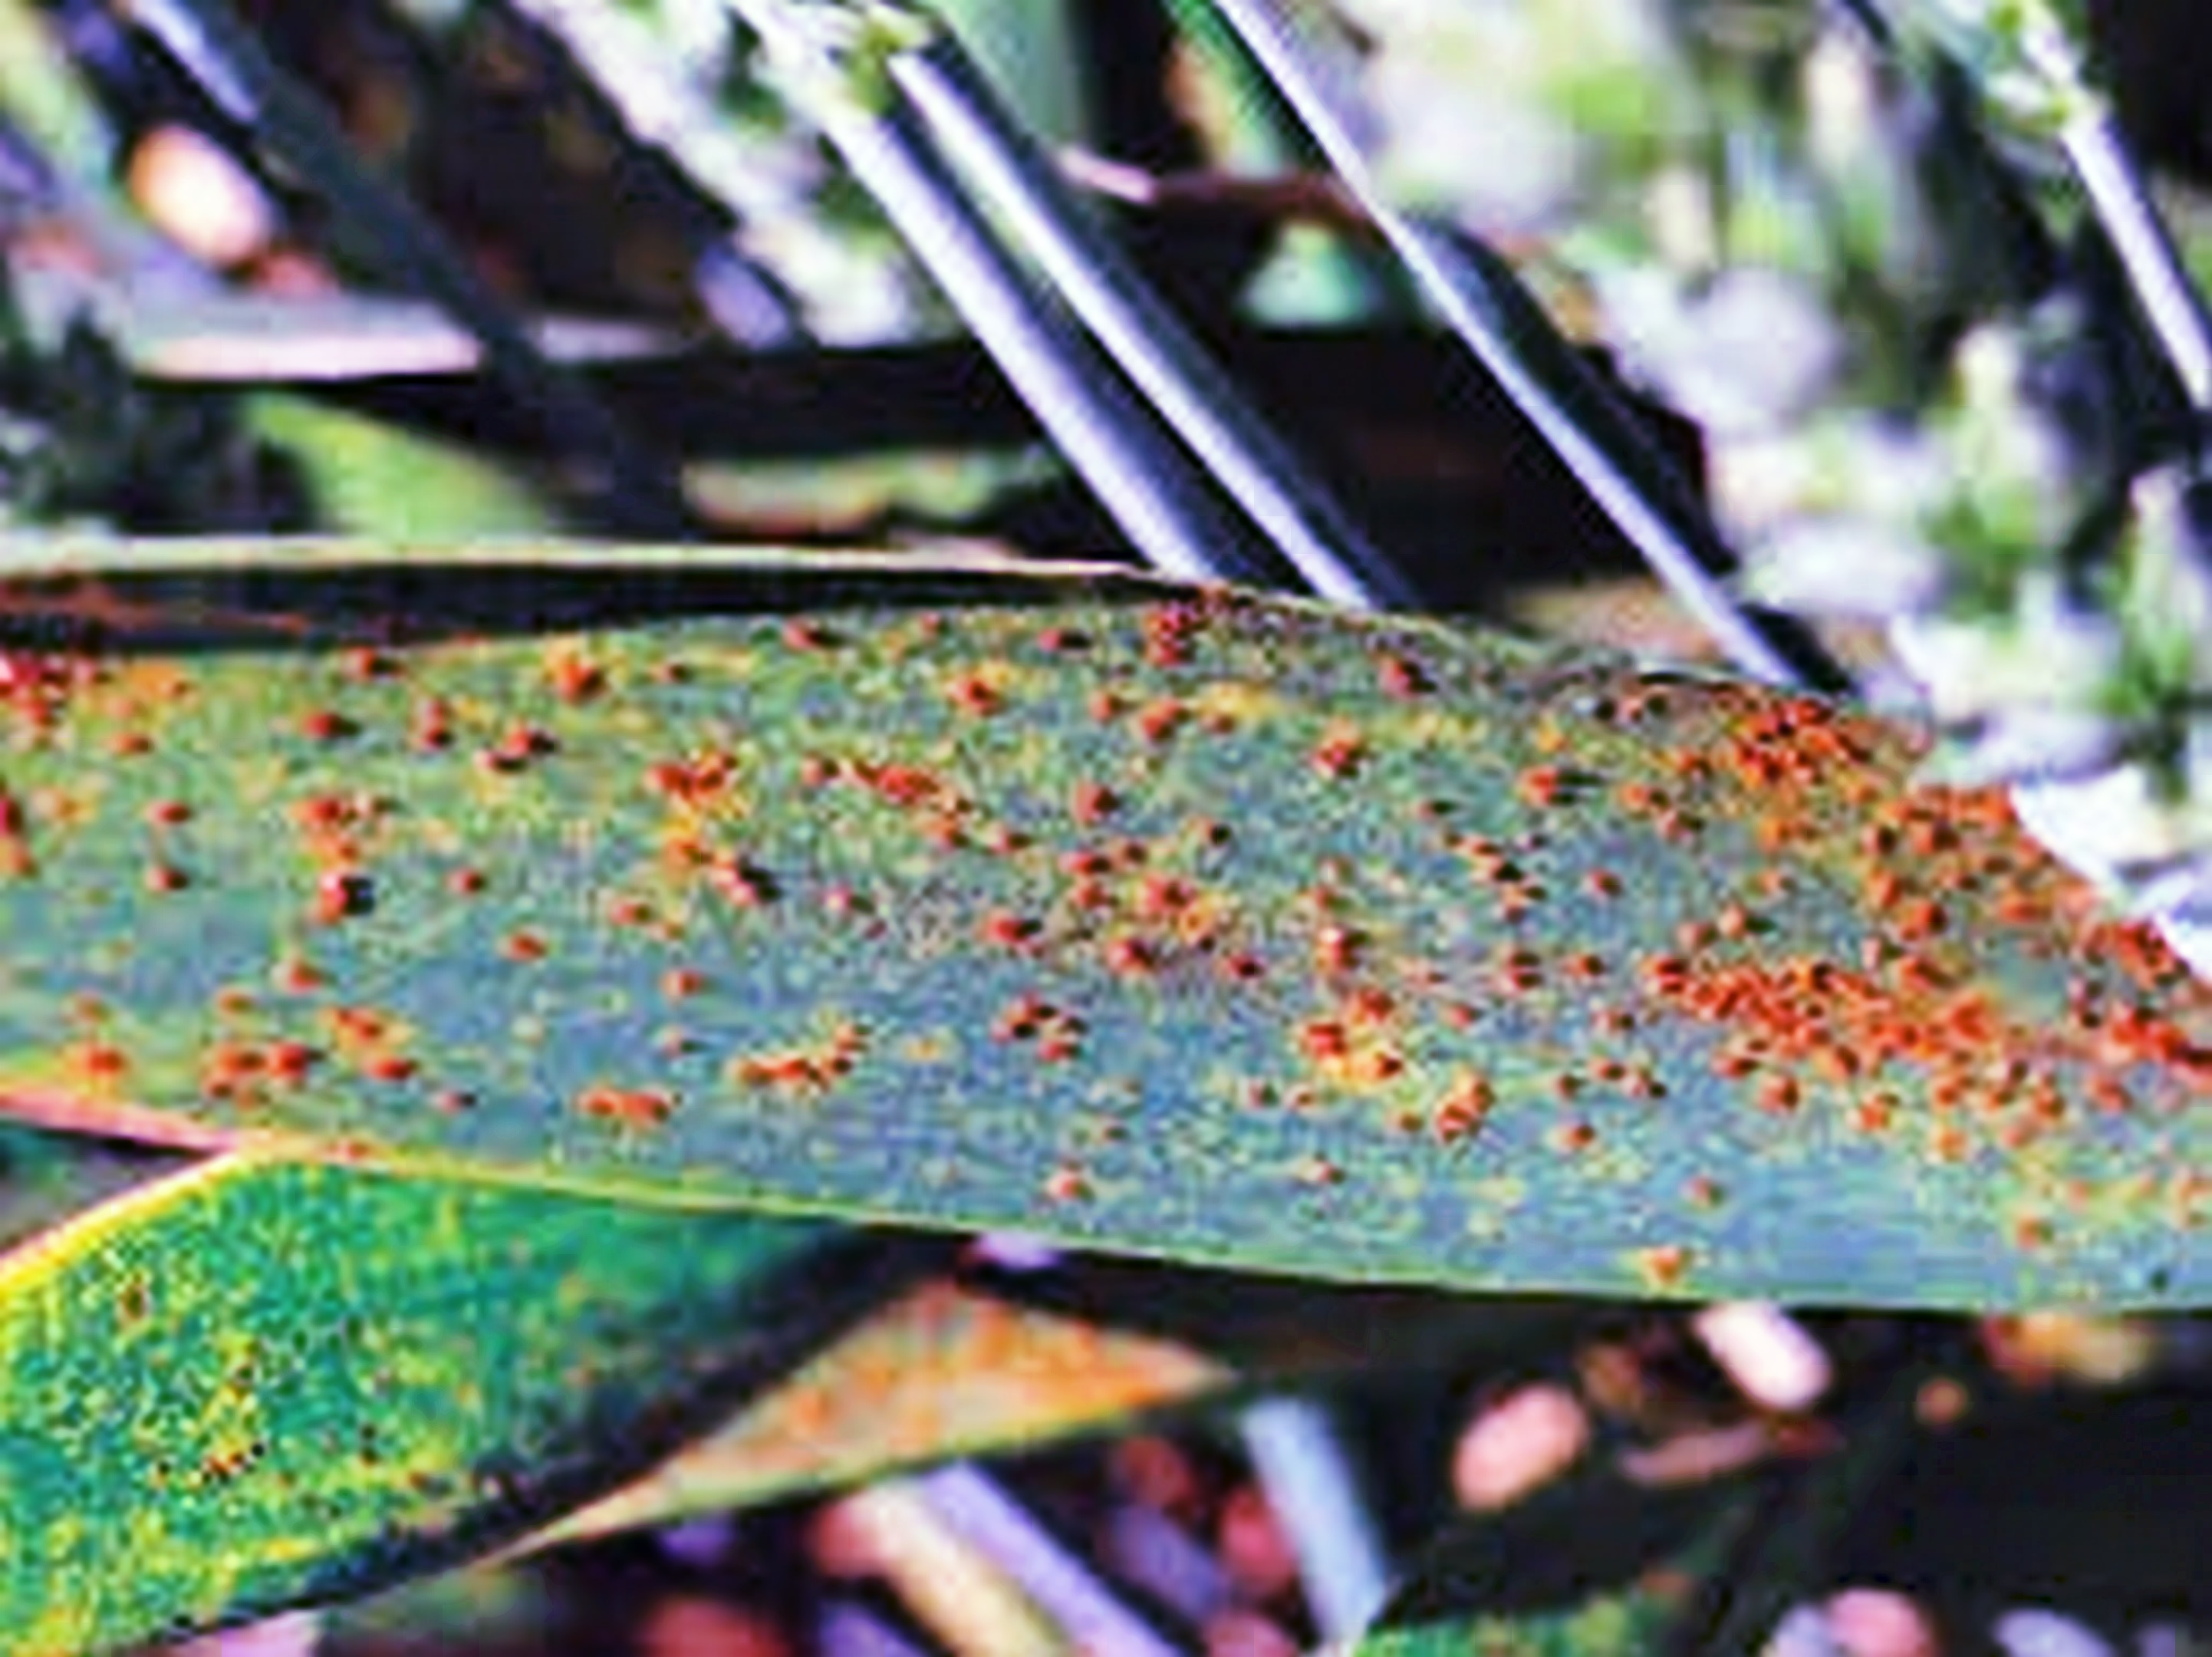Leaf Rust: (315, 585, 1986, 1300)
